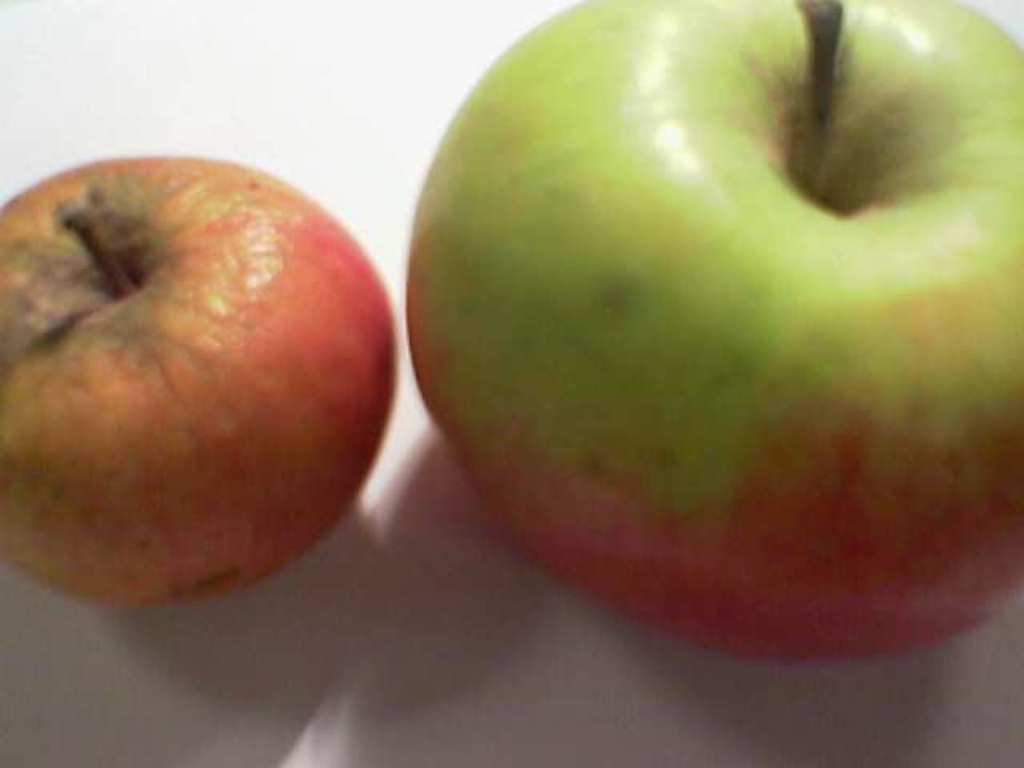Apple: (401, 0, 1022, 662), (0, 155, 398, 606)
